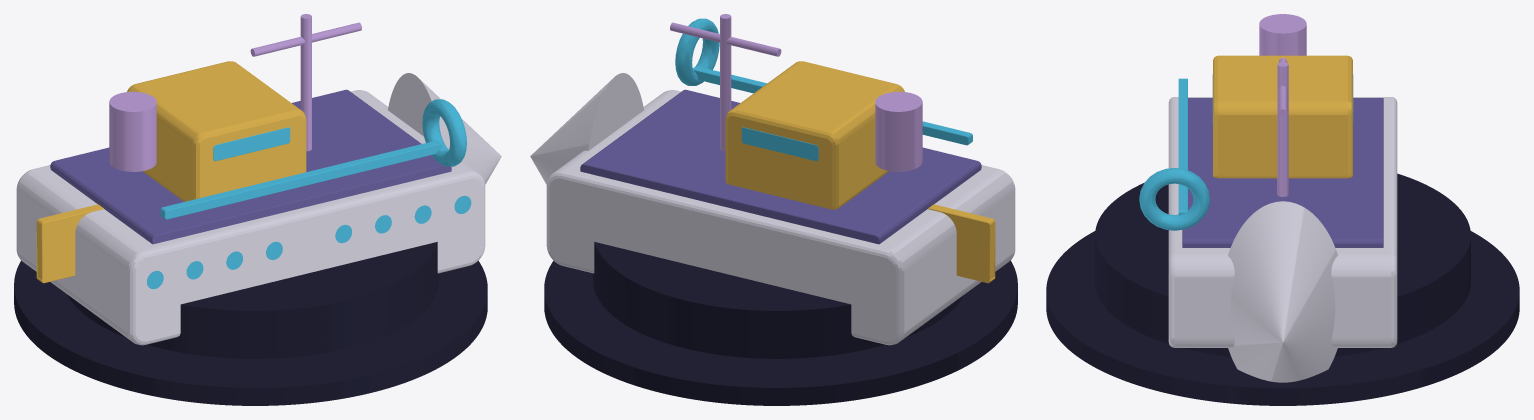
Rendered from 0677_史前人类图鉴_双体独木舟.glb.
The picture shows the model from 3 angles, left to right: view 1: azimuth 30°, elevation 25°; view 2: azimuth 150°, elevation 25°; view 3: azimuth 270°, elevation 25°; orthographic projection.
Parts seen in each view (by area): view 1: card_0677; view 2: card_0677; view 3: card_0677.
Part boxes in pixels (x1=…): card_0677: x1=14, y1=14, x2=501, y2=405; card_0677: x1=530, y1=14, x2=1017, y2=405; card_0677: x1=1046, y1=14, x2=1519, y2=405.
Bounding box in the file's own units: 1.67 × 1 × 1.51.
